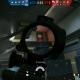Character: (41, 39, 42, 41)
Friend_label: (13, 67, 16, 69)
Head: (42, 39, 42, 41)
